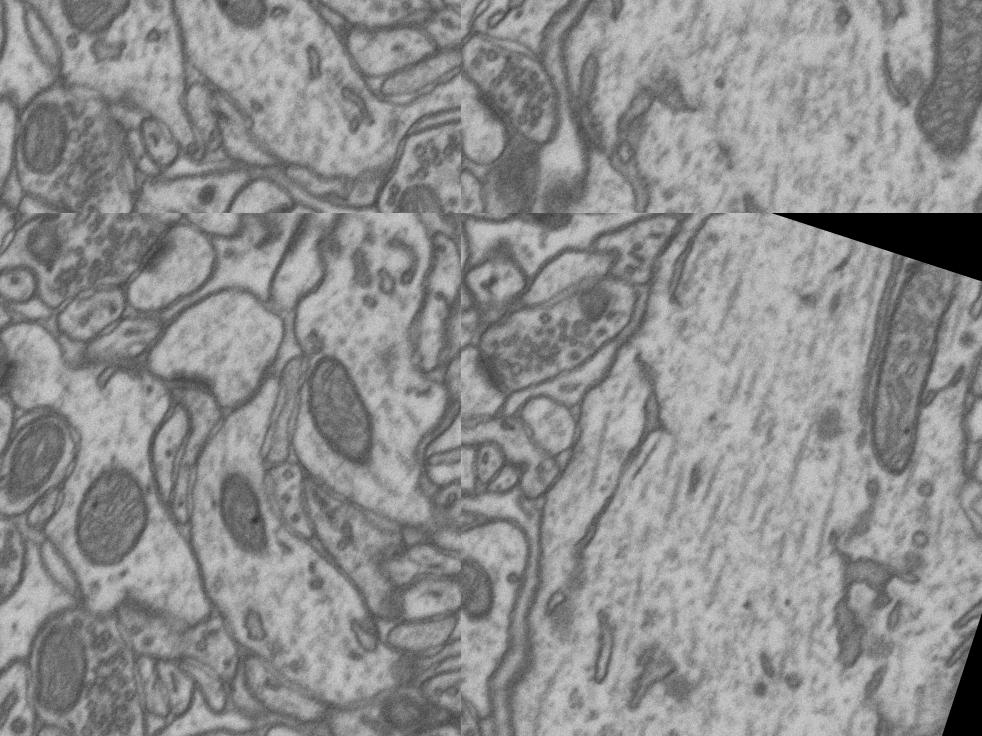mitochondria: (817, 250, 976, 484), (271, 342, 410, 488), (866, 0, 982, 146), (53, 442, 172, 583), (8, 605, 106, 725), (193, 462, 292, 571), (0, 401, 76, 525), (0, 80, 87, 188), (548, 248, 644, 344), (37, 0, 153, 55), (5, 213, 85, 281), (461, 561, 517, 657), (360, 674, 446, 736), (478, 150, 550, 213), (373, 167, 461, 213), (185, 0, 285, 36)
